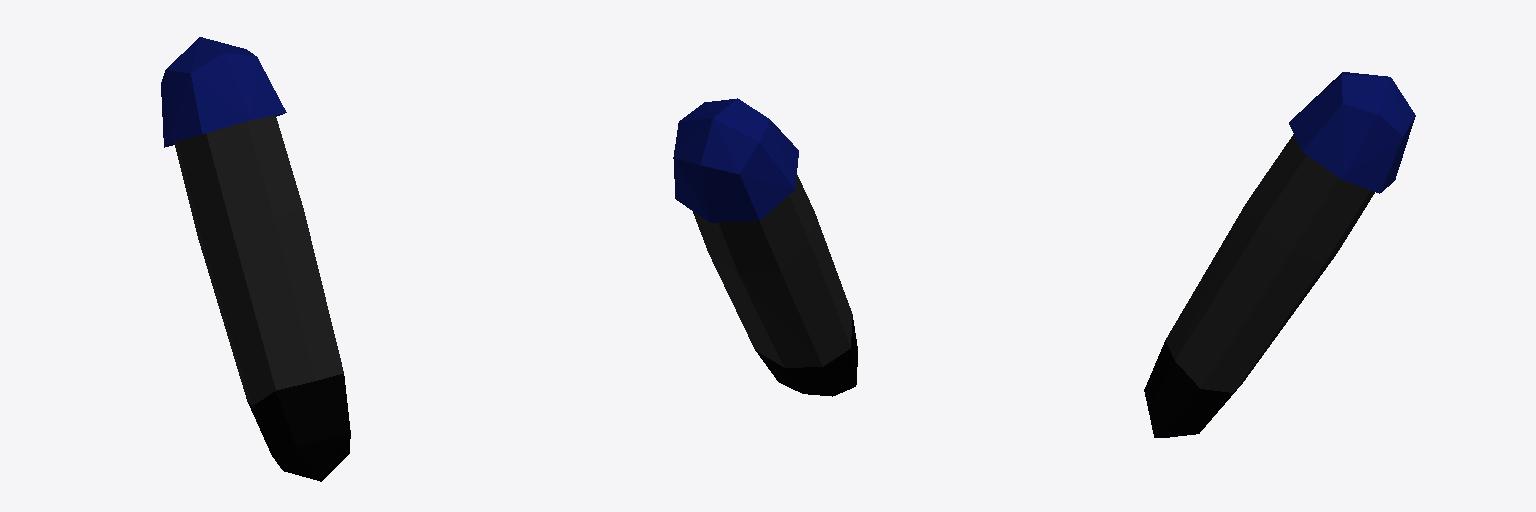
File: low_poly_raccoon_armLeft.obj
3 views of the same model, side by side, from view 1: azimuth 30°, elevation 25°; view 2: azimuth 150°, elevation 25°; view 3: azimuth 270°, elevation 25° (orthographic).
Parts seen in each view (by area): view 1: armLeft; view 2: armLeft; view 3: armLeft.
Part boxes in pixels (x1,y1,x2,y2): armLeft: (161, 37, 350, 481); armLeft: (673, 98, 857, 396); armLeft: (1144, 72, 1415, 437).
Size of the model in its own units: 0.1211 by 0.3591 by 0.2451.